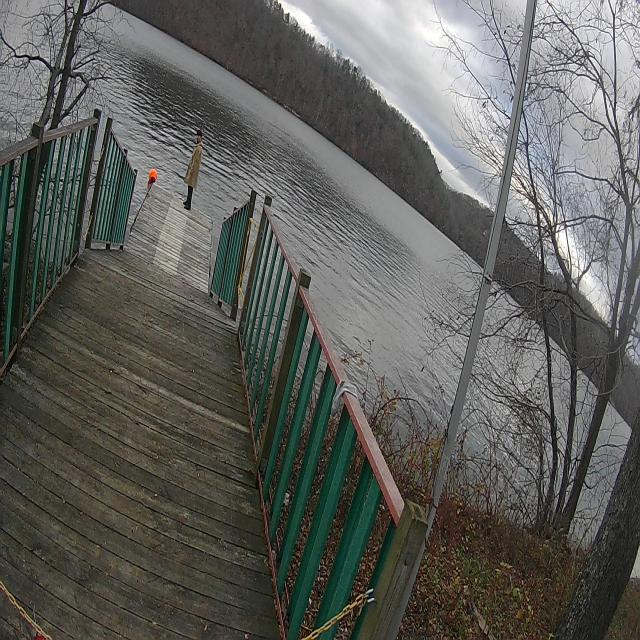Buoy: (145, 165, 160, 187)
